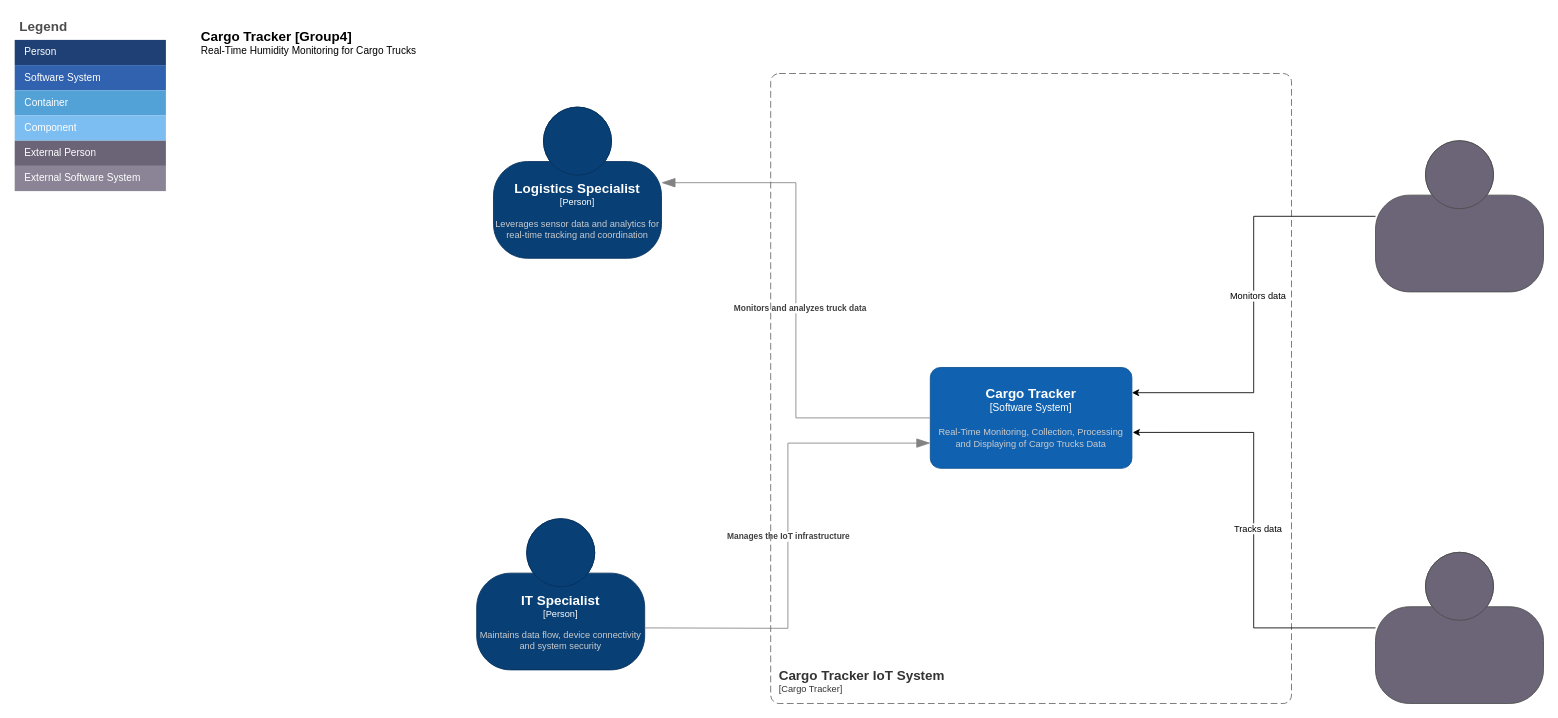
The diagram is 1558 pixels wide and 718 high, and some of its shapes have lost their labels. The shapes that lost their labels are listed below. From the top down, each one's centre as x and y in pixels, then its label:
At [1459,216]: "Truck Driver [Person] Responsible for monitoring vehicle health".
At [1459,627]: "Customer [Person] Interacts with the system to track shipments".
